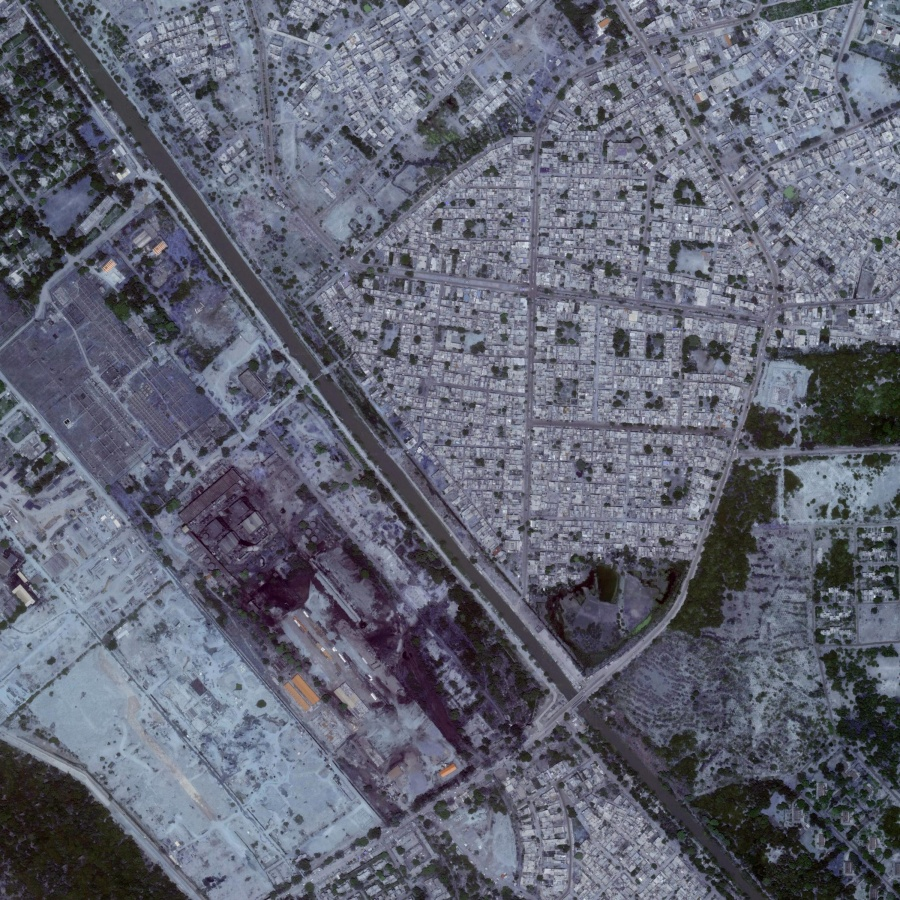PowerPlant: (179, 461, 478, 784)
